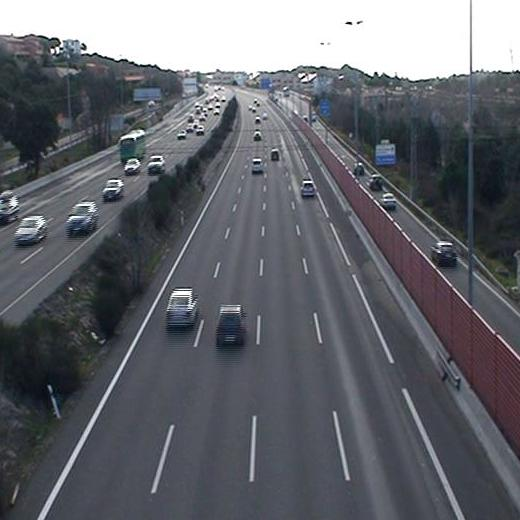car: (211, 300, 251, 351), (164, 283, 202, 333), (297, 177, 318, 199), (249, 158, 267, 176), (268, 146, 282, 163)
